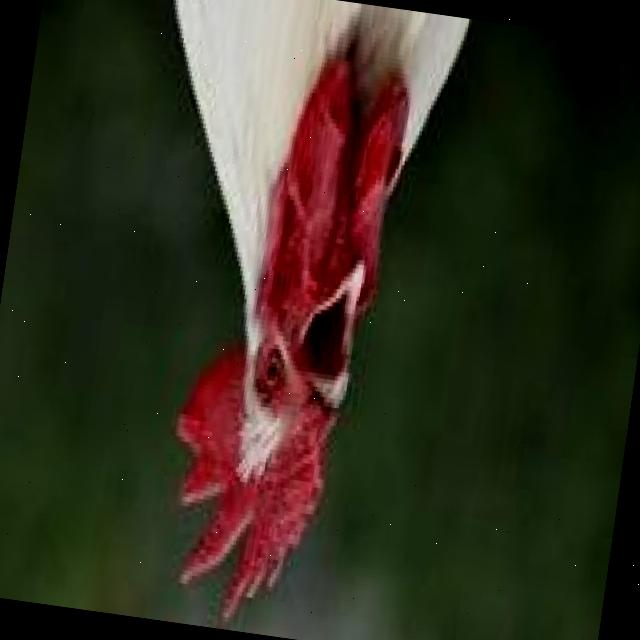Healthy: (70, 0, 471, 640)
